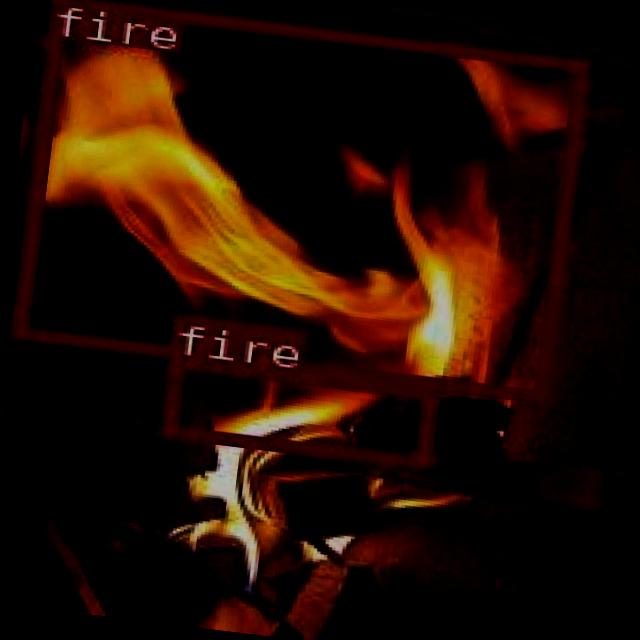fire: (8, 0, 588, 401), (156, 352, 438, 467)
